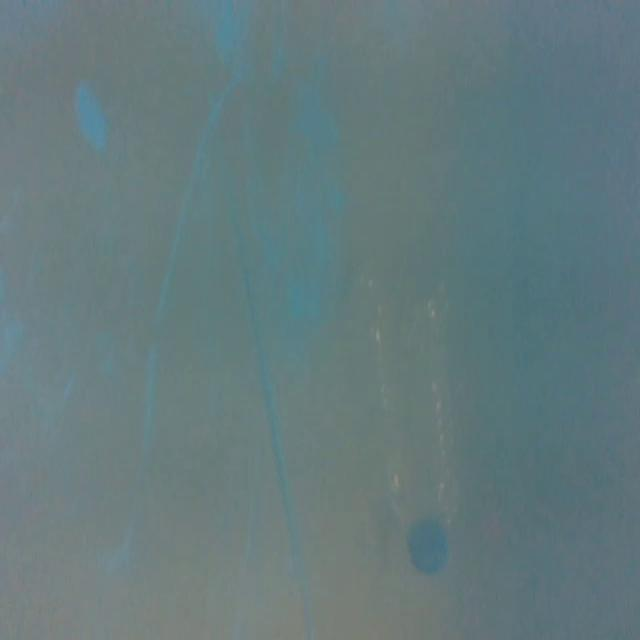plastic bottle: (351, 243, 493, 574)
